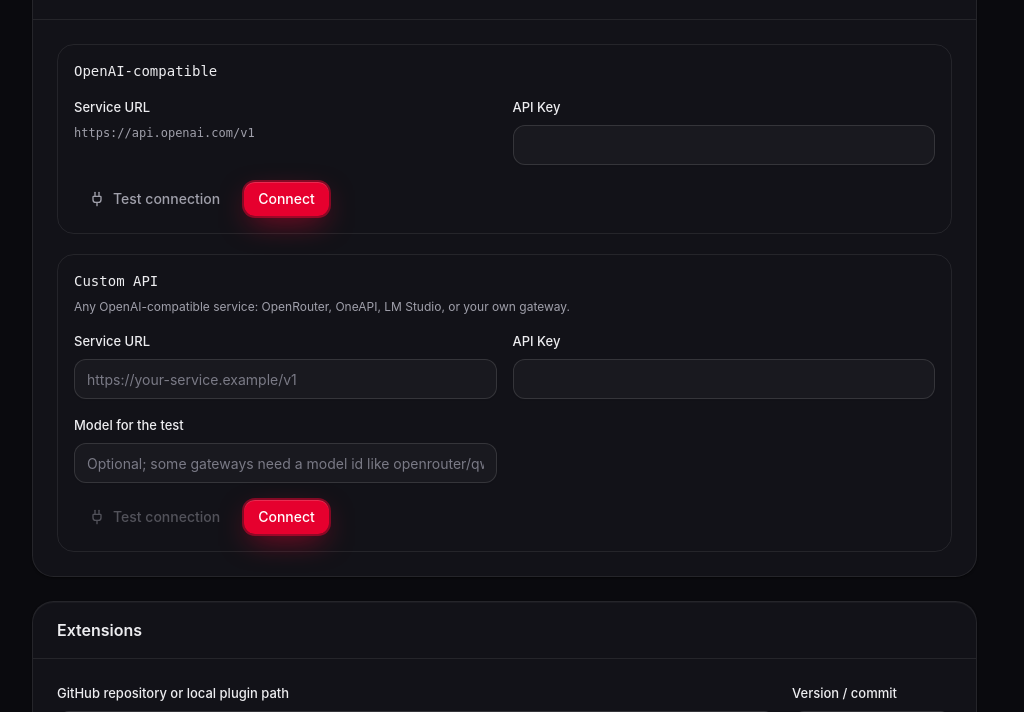
it: offers a Custom API card without a saved connection and sends its model to the probe
(page scrolled)
Type "https://router.example/v1" into the field labelled "Service URL" at (285, 379), box [74, 359, 496, 399]
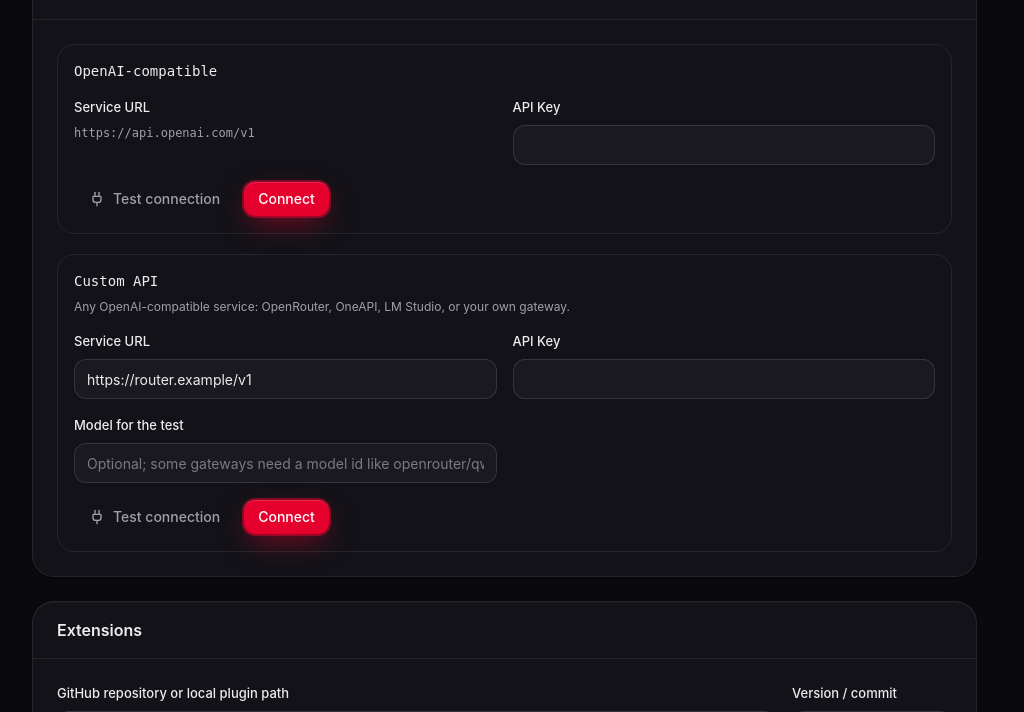
Replace the text in the field labelled "Model for the test" with "router/model" at (285, 463), box [74, 443, 496, 483]
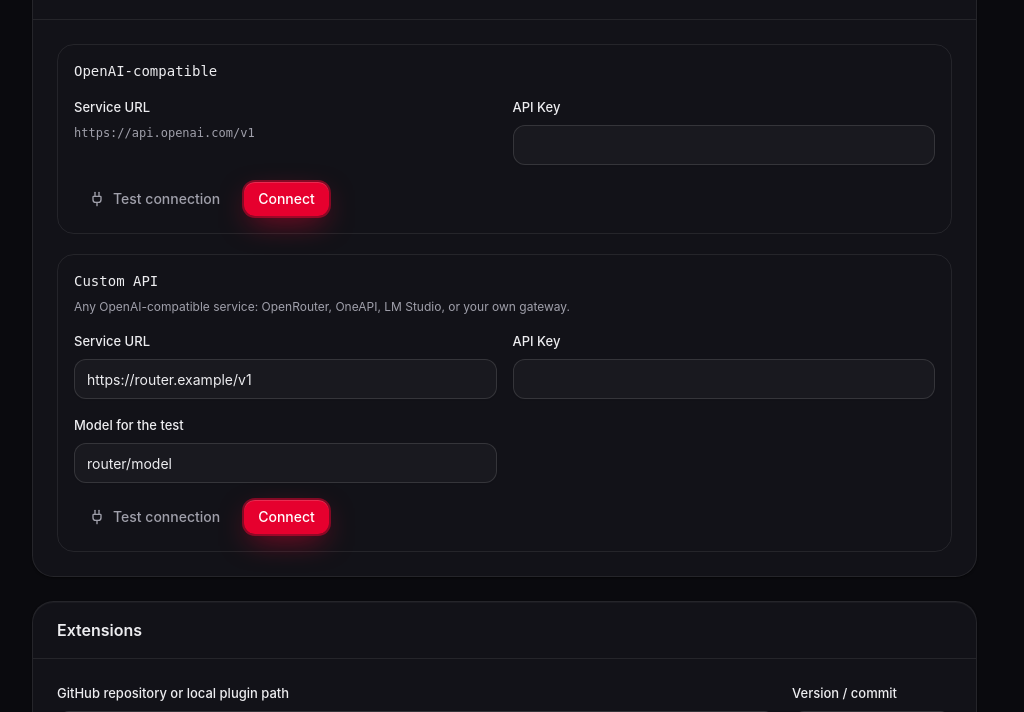
Click the button "Test connection" below "Model for the test" at (155, 517), box [74, 499, 235, 535]
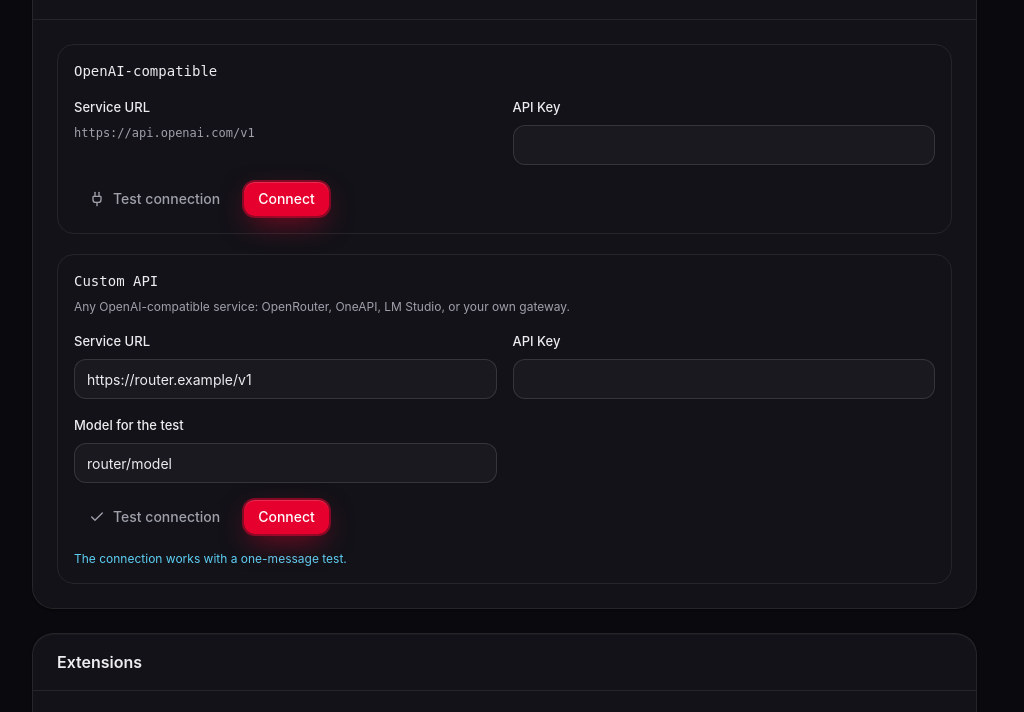
Expected: the text "The connection works with a one-message test." is shown, [74, 551, 347, 566]
